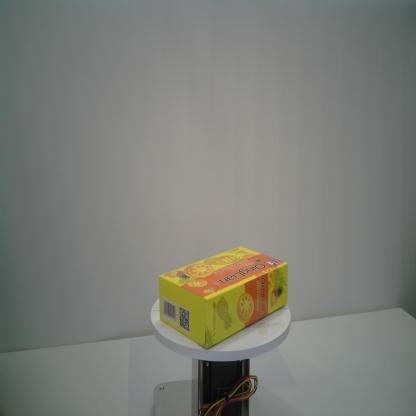Dessert: (158, 244, 290, 351)
